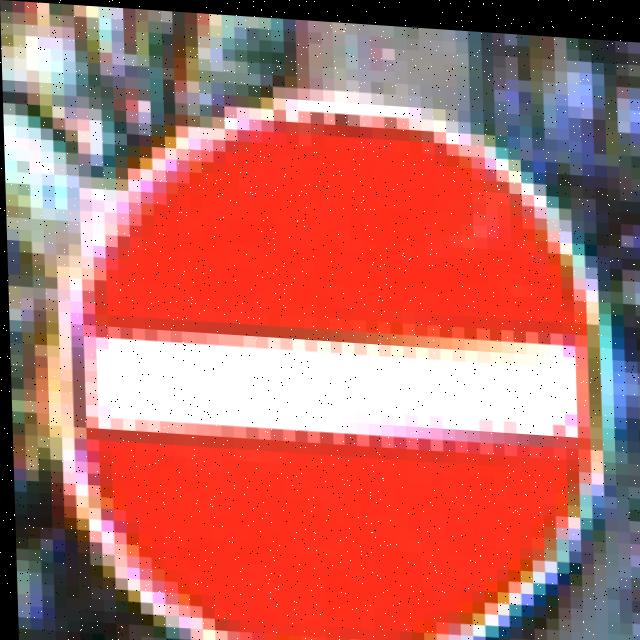road_rough: (38, 47, 640, 640)
